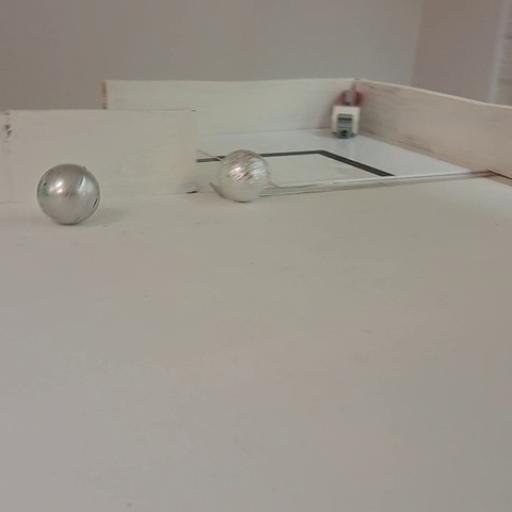alive: (37, 164, 100, 226), (216, 149, 270, 202)
